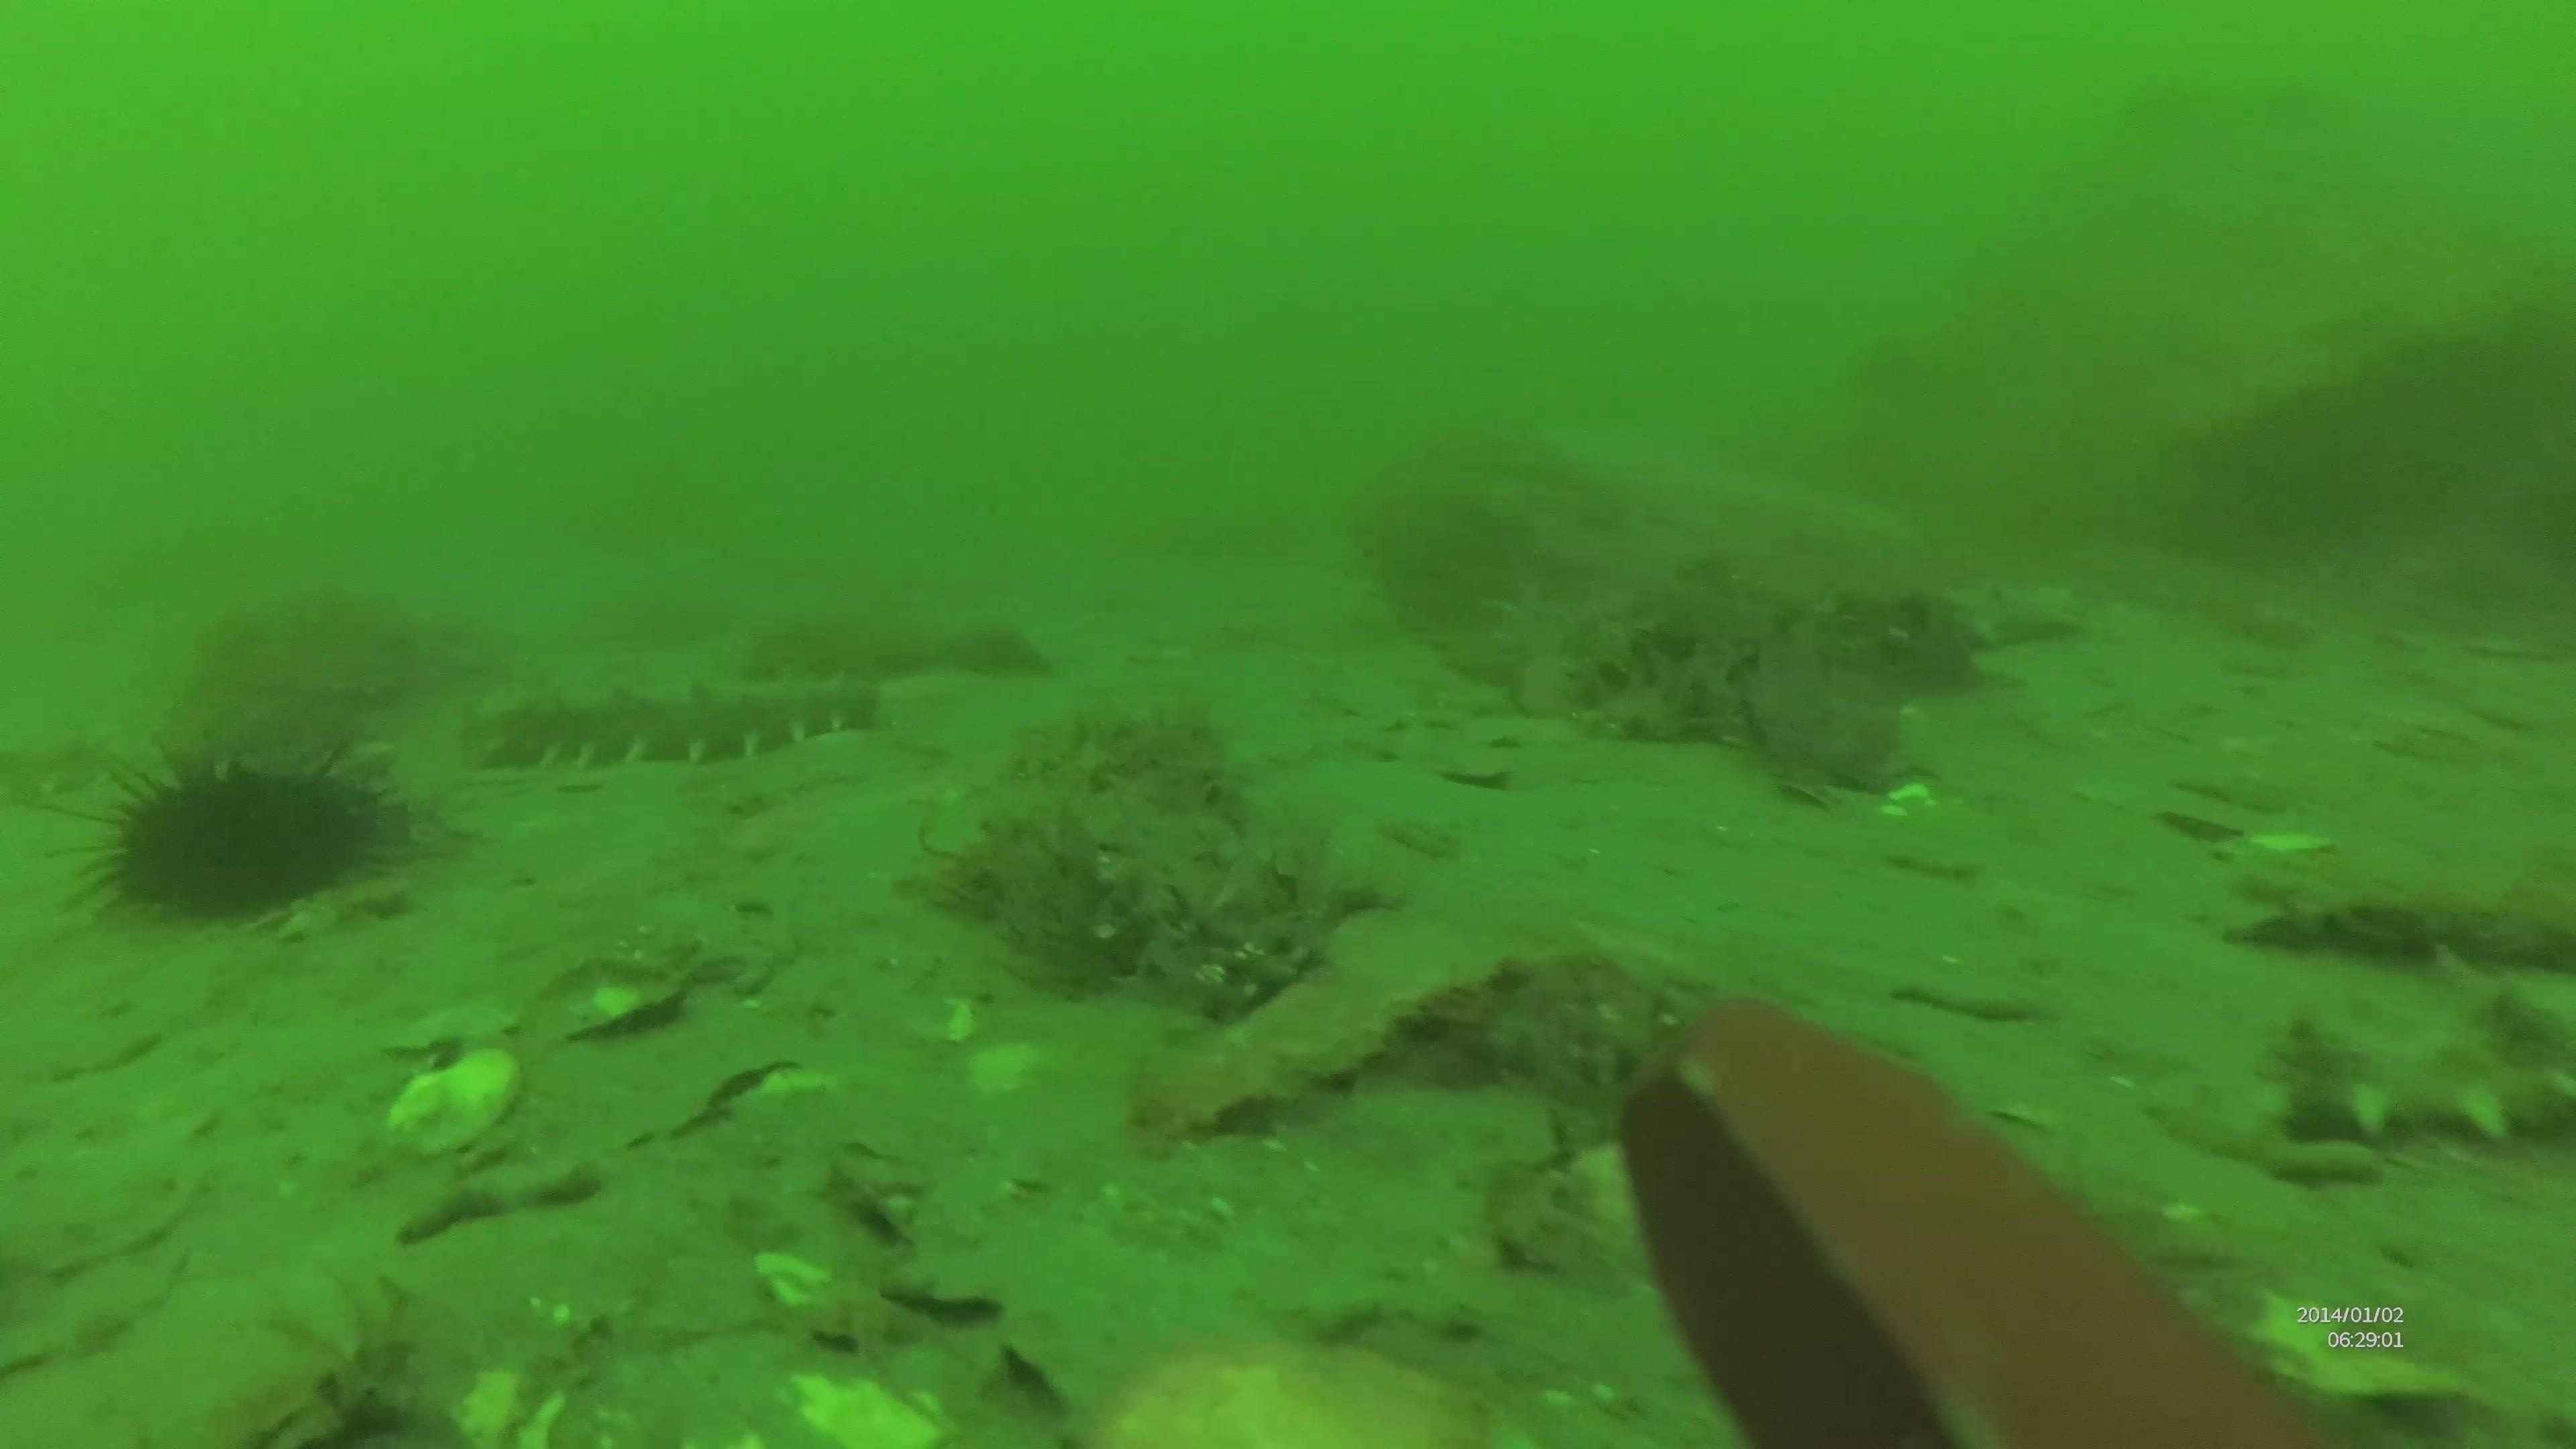echinus: (71, 725, 412, 932)
holothurian: (2238, 954, 2574, 1159), (465, 663, 885, 782)
scallop: (2217, 837, 2567, 975)
